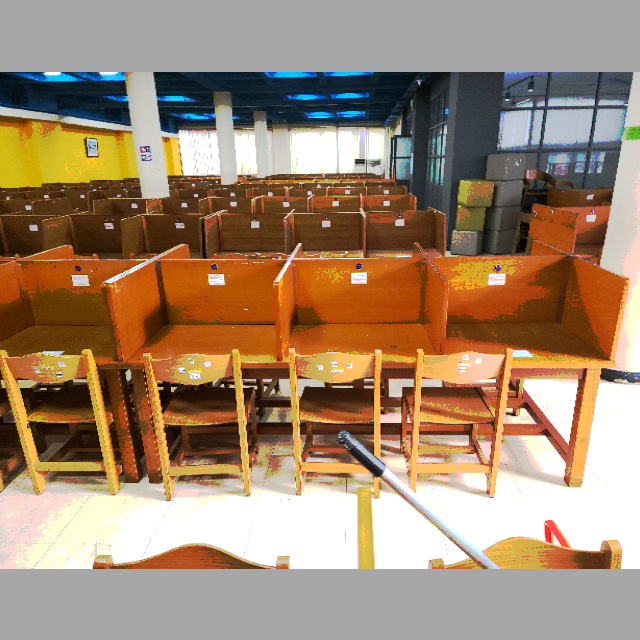empty: (455, 237, 625, 442), (281, 237, 447, 435), (112, 249, 276, 435)
